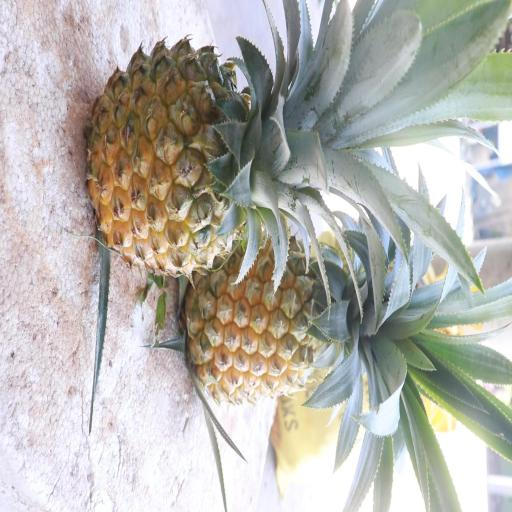Pineapple - v8 v1: (82, 32, 332, 286), (180, 220, 392, 411)
